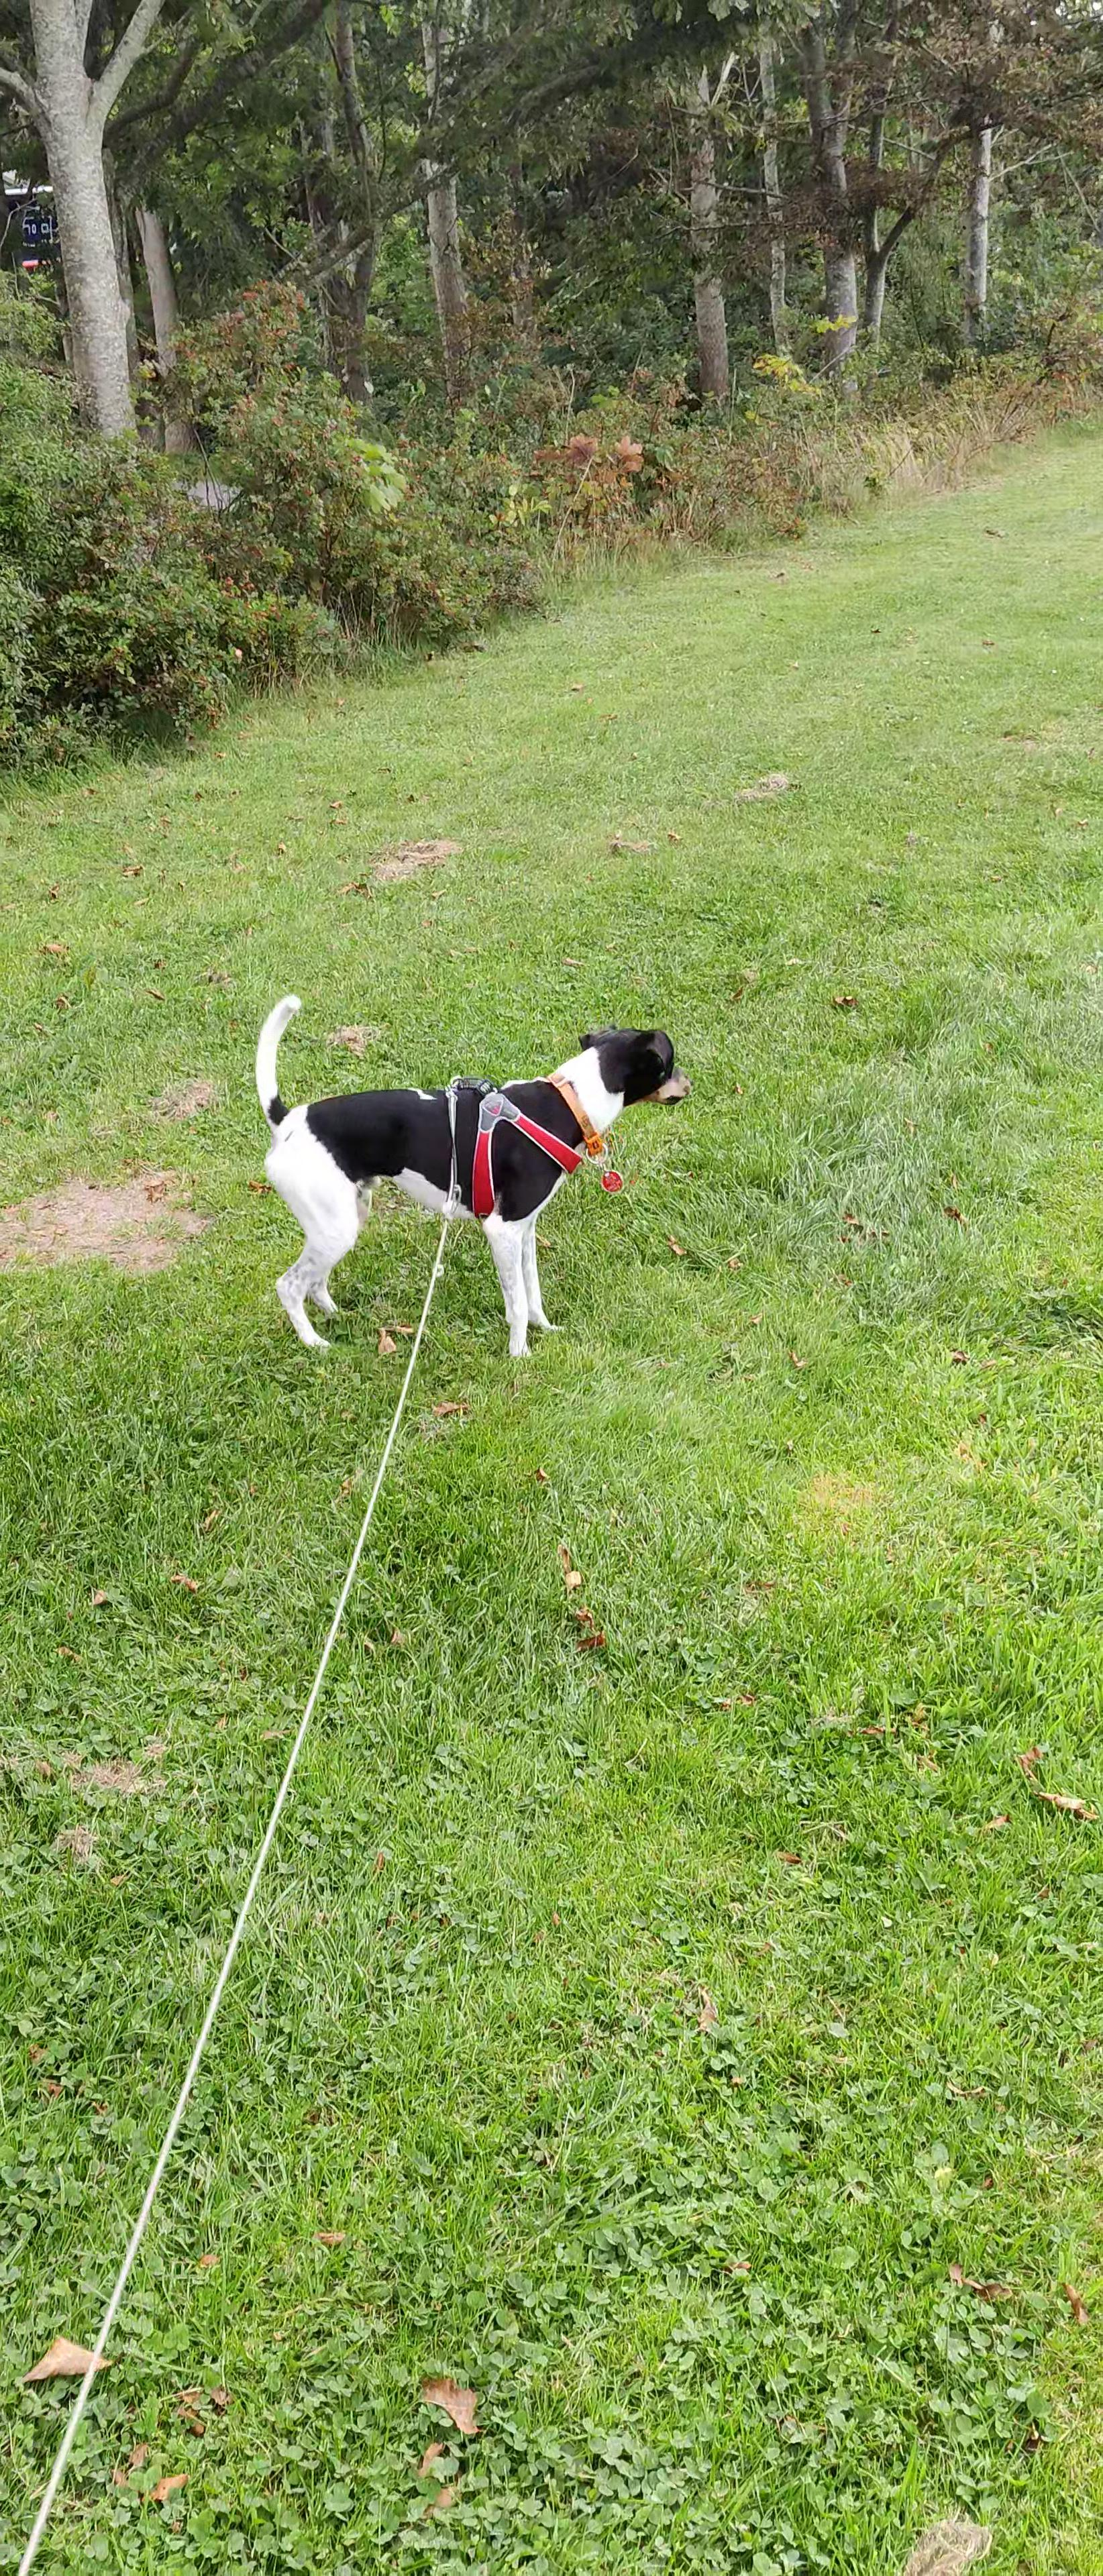Dog: (233, 984, 712, 1380)
